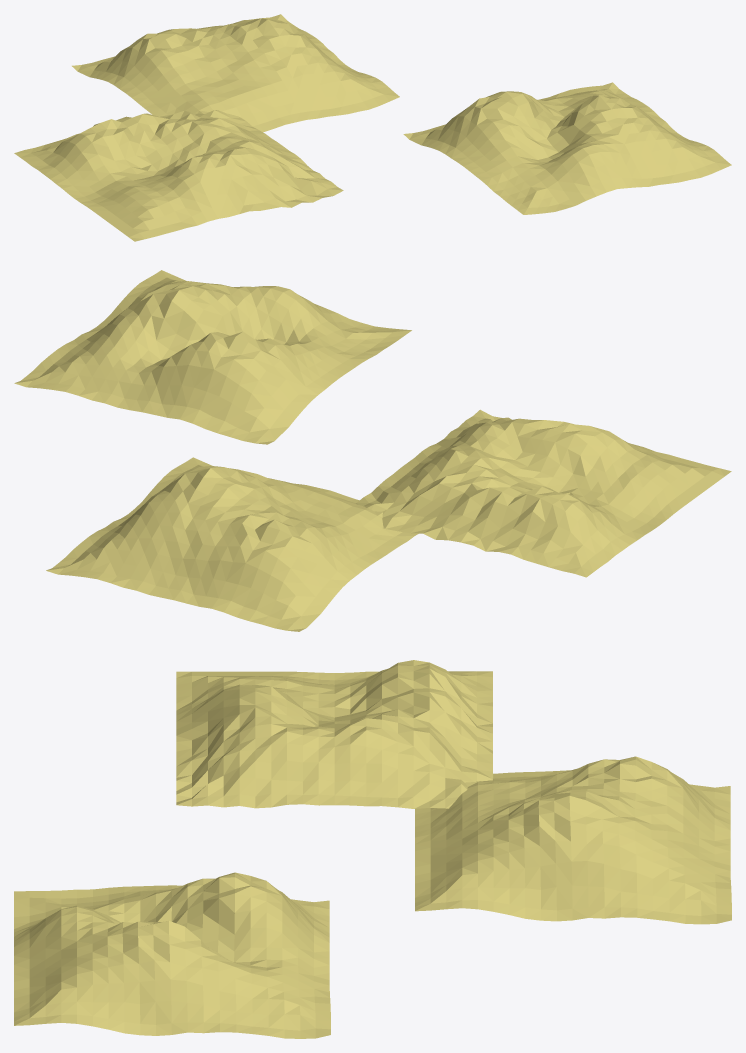
The model's file is Islands.fbx.
3 renders of one model, top to bottom at view 1: azimuth 30°, elevation 25°; view 2: azimuth 150°, elevation 25°; view 3: azimuth 270°, elevation 25°, orthographic. The views are drawn at different scales.
Visible parts, largest first — view 1: Island 1, Island 3, Island 2; view 2: Island 3, Island 1, Island 2; view 3: Island 3, Island 2, Island 1.
Part boxes in pixels (x1,y1,x2,y2): Island 1: [14, 110, 343, 241]; Island 3: [403, 82, 731, 214]; Island 2: [72, 14, 399, 132]; Island 3: [14, 270, 411, 444]; Island 1: [356, 409, 731, 577]; Island 2: [46, 457, 418, 631]; Island 3: [14, 872, 330, 1038]; Island 2: [415, 756, 731, 924]; Island 1: [176, 660, 492, 808].
Size of the model in its own units: 1933 by 209 by 1702.
